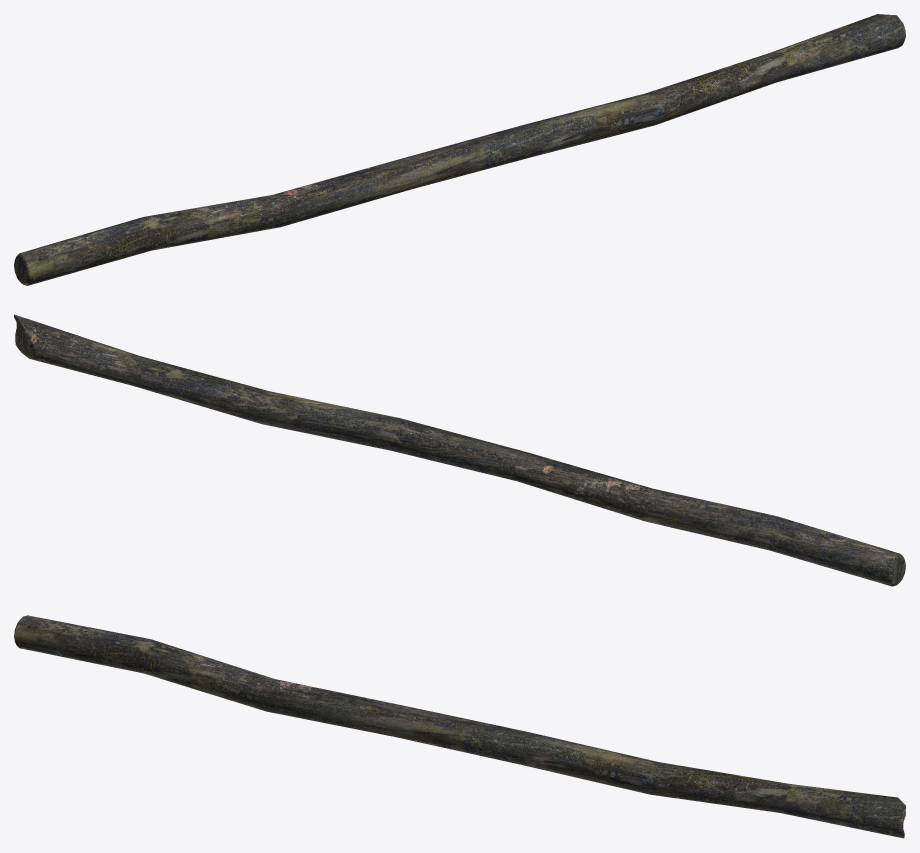
The model's file is FenceHorizontal_Half.fbx.
3 renders of one model, top to bottom at view 1: azimuth 30°, elevation 25°; view 2: azimuth 150°, elevation 25°; view 3: azimuth 330°, elevation 25°, orthographic.
Visible parts, largest first — view 1: FenceHorizontalHalf; view 2: FenceHorizontalHalf; view 3: FenceHorizontalHalf.
Boxes of the visible parts, x1,y1,x2,y2 form: FenceHorizontalHalf: (14,14,905,285); FenceHorizontalHalf: (14,314,905,586); FenceHorizontalHalf: (14,615,905,838).
Size of the model in its own units: 164 by 10 by 9.55.
